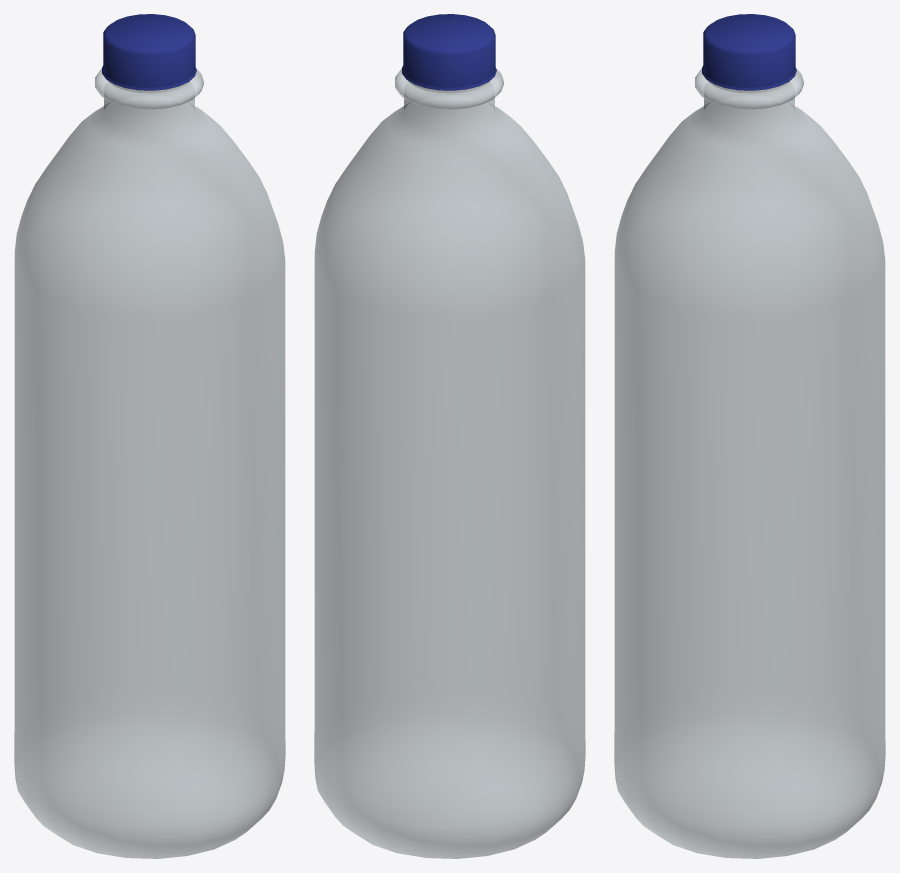
File: scene_large_bottle.gltf
3 renders of one model, left to right at view 1: azimuth 30°, elevation 25°; view 2: azimuth 150°, elevation 25°; view 3: azimuth 270°, elevation 25°, orthographic.
Visible parts, largest first — view 1: SM_Water_bottle_2, SM_Water_bottle_2_cap; view 2: SM_Water_bottle_2, SM_Water_bottle_2_cap; view 3: SM_Water_bottle_2, SM_Water_bottle_2_cap.
Boxes of the visible parts, x1=… form: SM_Water_bottle_2: x1=14, y1=68, x2=285, y2=858; SM_Water_bottle_2_cap: x1=102, y1=14, x2=196, y2=90; SM_Water_bottle_2: x1=314, y1=68, x2=585, y2=858; SM_Water_bottle_2_cap: x1=402, y1=14, x2=496, y2=90; SM_Water_bottle_2: x1=614, y1=68, x2=885, y2=858; SM_Water_bottle_2_cap: x1=702, y1=14, x2=796, y2=90.
Size of the model in its own units: 0.0974 by 0.3143 by 0.0971.
1 material, 1 textured.
